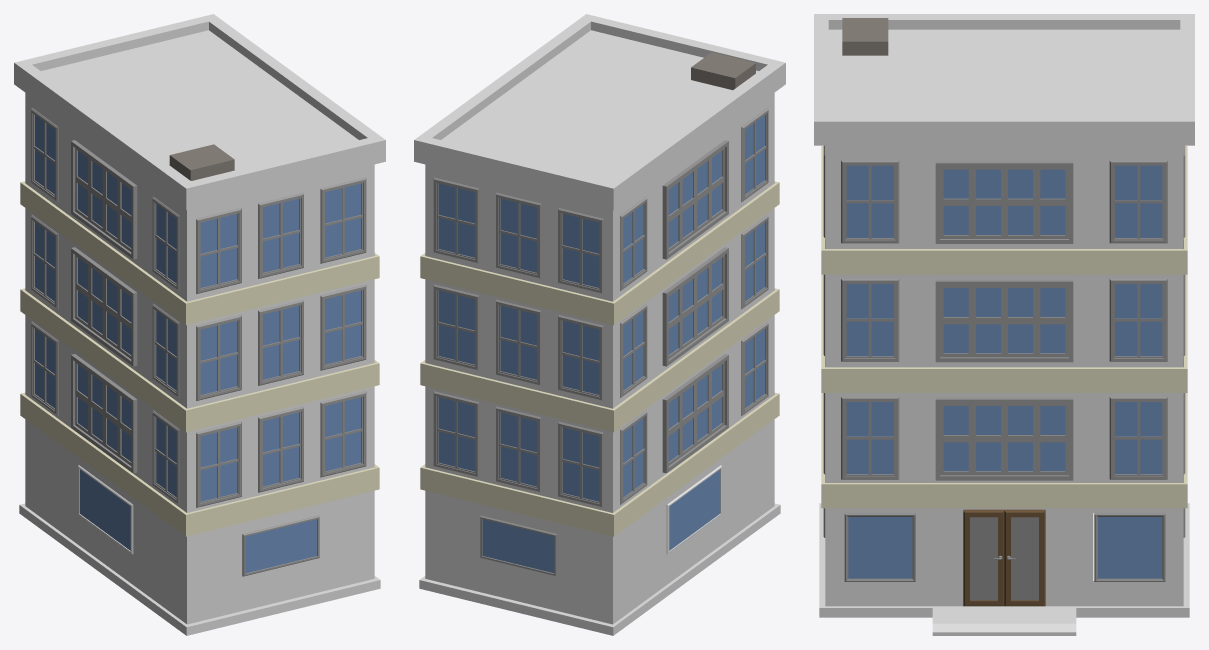
The model's file is BUILDING-4.glb.
3 views of the same model, side by side, from view 1: azimuth 30°, elevation 25°; view 2: azimuth 150°, elevation 25°; view 3: azimuth 270°, elevation 25° (orthographic). The views are drawn at different scales.
Visible parts, largest first — view 1: Plane.064; view 2: Plane.064; view 3: Plane.064.
Boxes of the visible parts, box(x1,y1,x2,y2) form: Plane.064: box(14, 14, 385, 635); Plane.064: box(414, 14, 785, 635); Plane.064: box(814, 14, 1194, 635).
Bounding box in the file's own units: 2.46 × 4.63 × 3.18.
